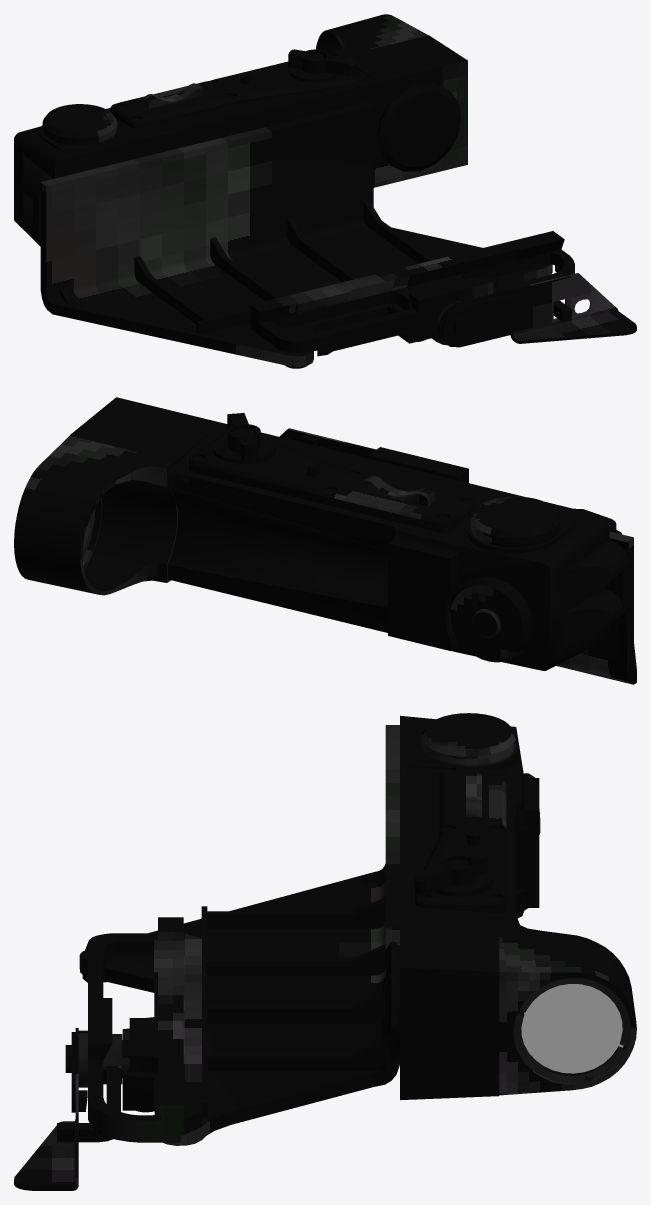
The model's file is ekp_scope.obj.
The picture shows the model from 3 angles, top to bottom: view 1: azimuth 30°, elevation 25°; view 2: azimuth 150°, elevation 25°; view 3: azimuth 270°, elevation 25°; orthographic projection. The views are drawn at different scales.
Parts seen in each view (by area): view 1: attachmentModel; view 2: attachmentModel; view 3: attachmentModel, scopeModel.
Boxes of the visible parts, x1=… form: attachmentModel: x1=14, y1=14, x2=636, y2=368; attachmentModel: x1=14, y1=397, x2=636, y2=684; attachmentModel: x1=14, y1=713, x2=636, y2=1190; scopeModel: x1=521, y1=984, x2=623, y2=1073.
Size of the model in its own units: 6.89 by 2.71 by 6.49.
